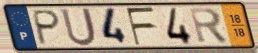4: (100, 6, 132, 48), (166, 6, 194, 46)
F: (124, 6, 157, 47)
P: (32, 9, 63, 47)
R: (187, 6, 230, 45)
U: (59, 7, 99, 48)
